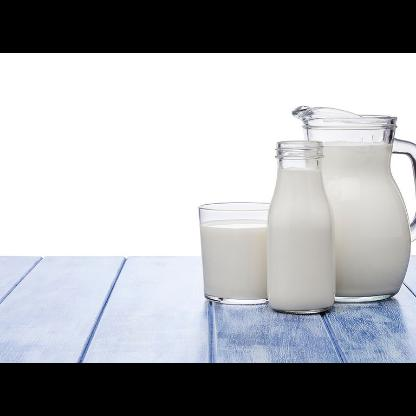milk: (307, 142, 411, 296), (266, 166, 334, 310), (200, 217, 268, 299)
